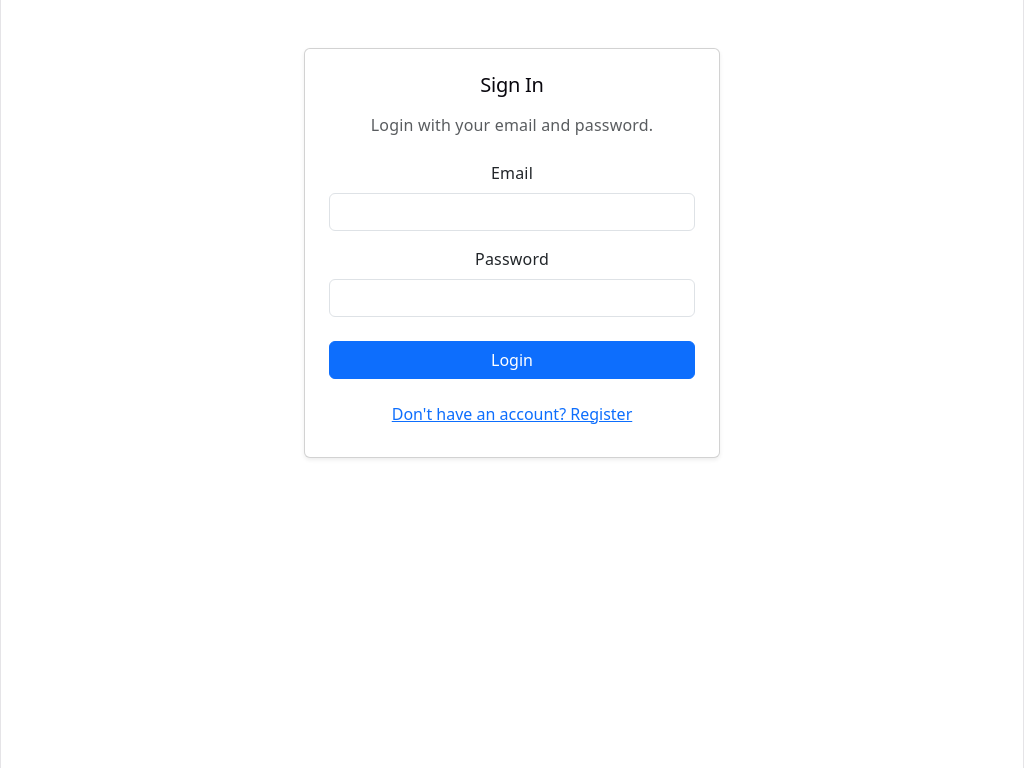
AuthForm › switches to register mode when the toggle button is clicked
Click the button "Don't have an account? Register".
click(512, 414)  # box [379, 395, 645, 433]
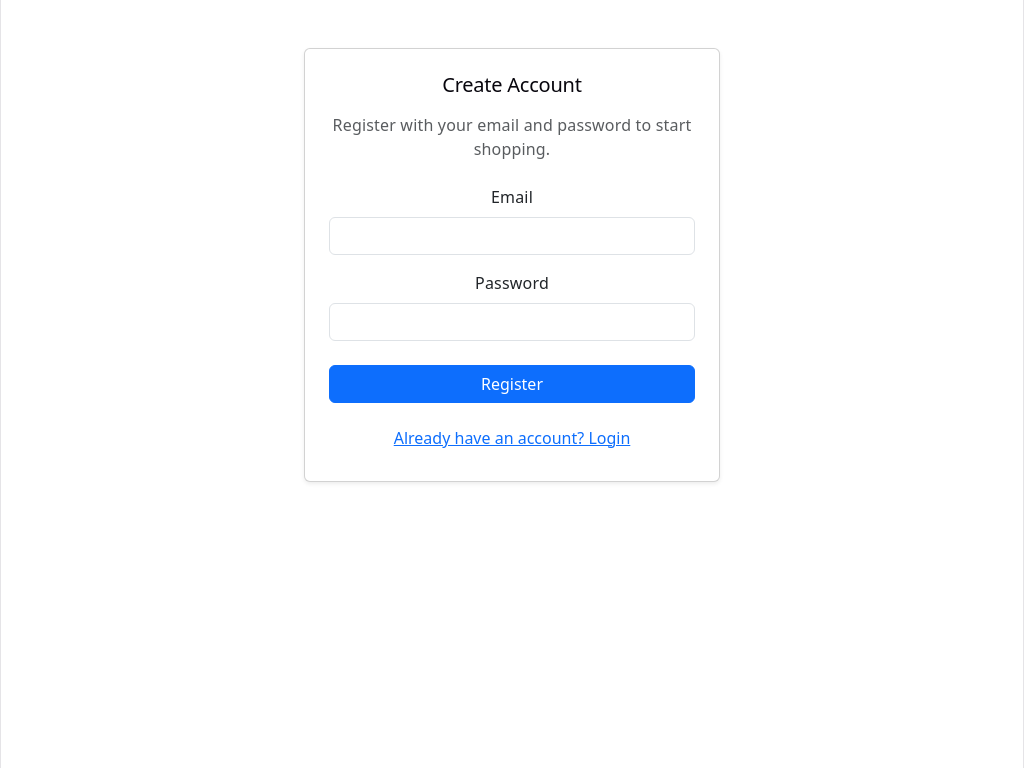
Now the heading "Create Account" is shown, box [442, 71, 582, 98]
Now the button "Register" is shown, box [329, 365, 695, 403]
Now the button "Already have an account? Login" is shown, box [381, 419, 643, 457]
